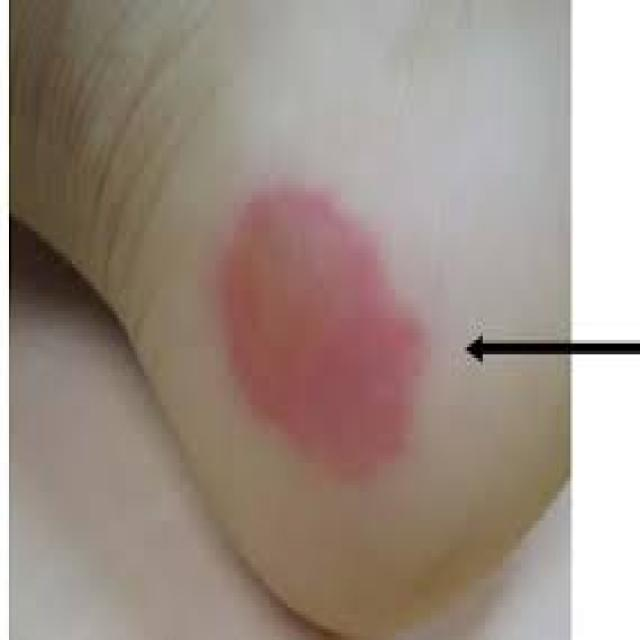stage-1: (227, 186, 430, 489)
